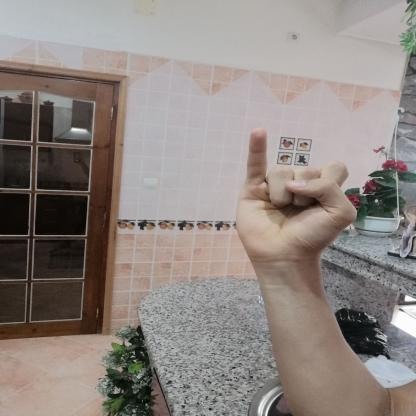MEEM: (219, 121, 376, 274)
